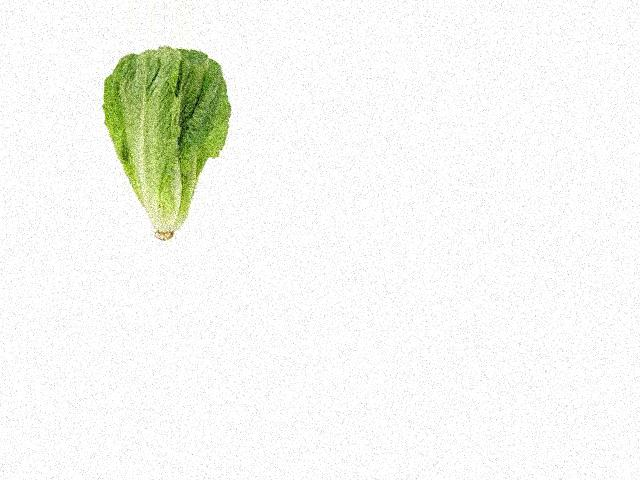lettuce: (103, 49, 224, 247)
